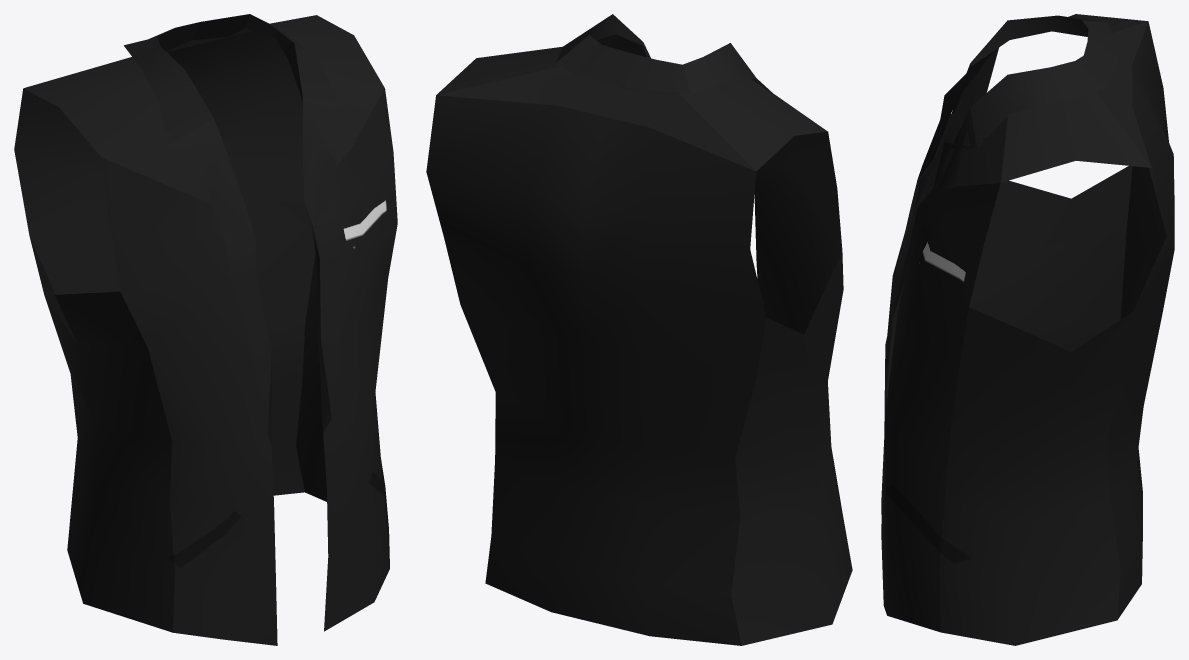
Rendered from gentlemanVest.fbx.
The picture shows the model from 3 angles, left to right: view 1: azimuth 30°, elevation 25°; view 2: azimuth 150°, elevation 25°; view 3: azimuth 270°, elevation 25°; orthographic projection. The views are drawn at different scales.
Visible parts, largest first — view 1: gentVest; view 2: gentVest; view 3: gentVest.
Part boxes in pixels (x1,y1,x2,y2): gentVest: (14,14,397,645); gentVest: (426,14,852,645); gentVest: (881,14,1174,645).
Bounding box in the file's own units: 37.66 × 63.9 × 30.5.
Materials: 1 (1 with a texture image).
